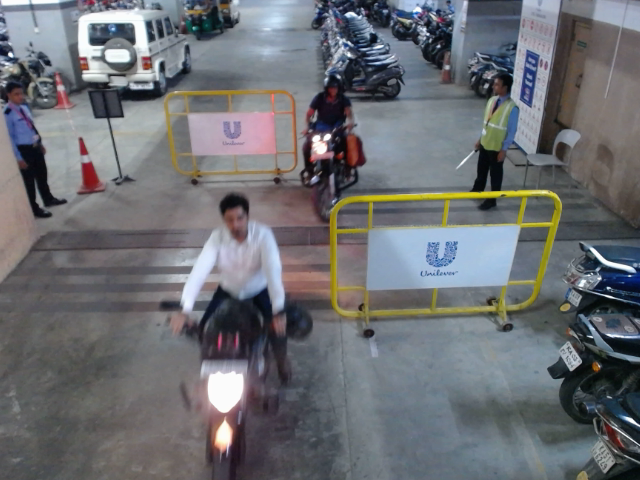with_helmet: (323, 74, 342, 89)
